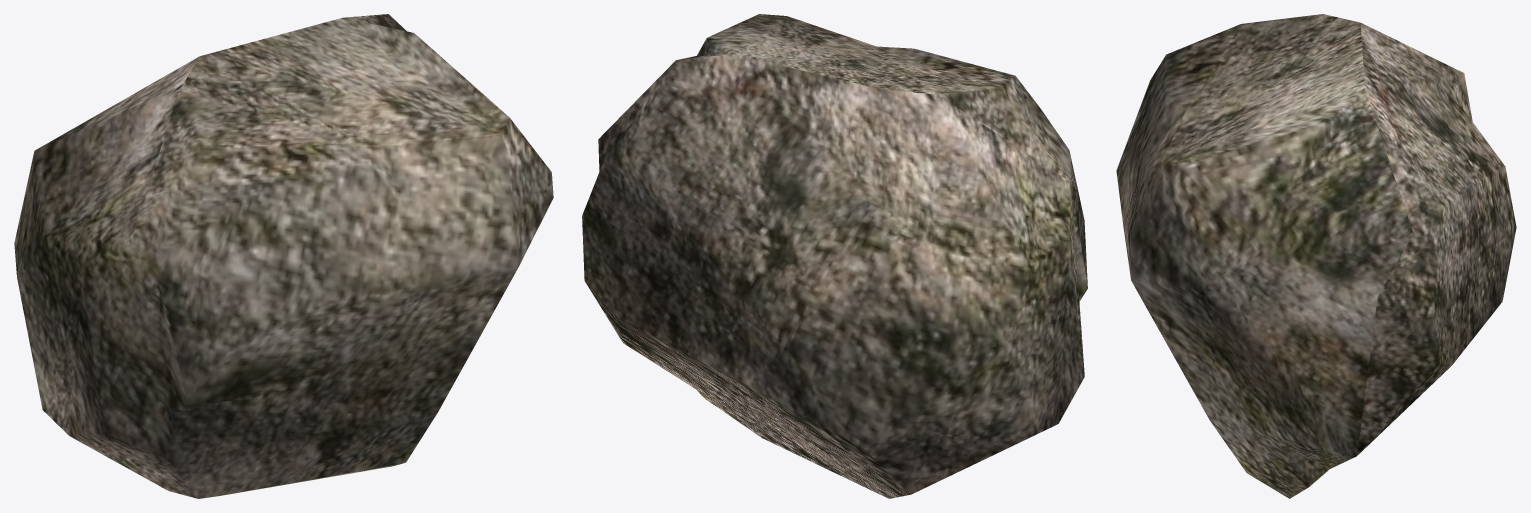
The model's file is rock1.glb.
3 views of the same model, side by side, from view 1: azimuth 30°, elevation 25°; view 2: azimuth 150°, elevation 25°; view 3: azimuth 270°, elevation 25° (orthographic). The views are drawn at different scales.
Visible parts, largest first — view 1: rock1; view 2: rock1; view 3: rock1.
Boxes of the visible parts, x1,y1,x2,y2 form: rock1: (14,14,553,498); rock1: (582,14,1087,498); rock1: (1116,14,1516,498).
Size of the model in its own units: 1.81 by 1.73 by 1.52.
Materials: 1 (1 with a texture image).
